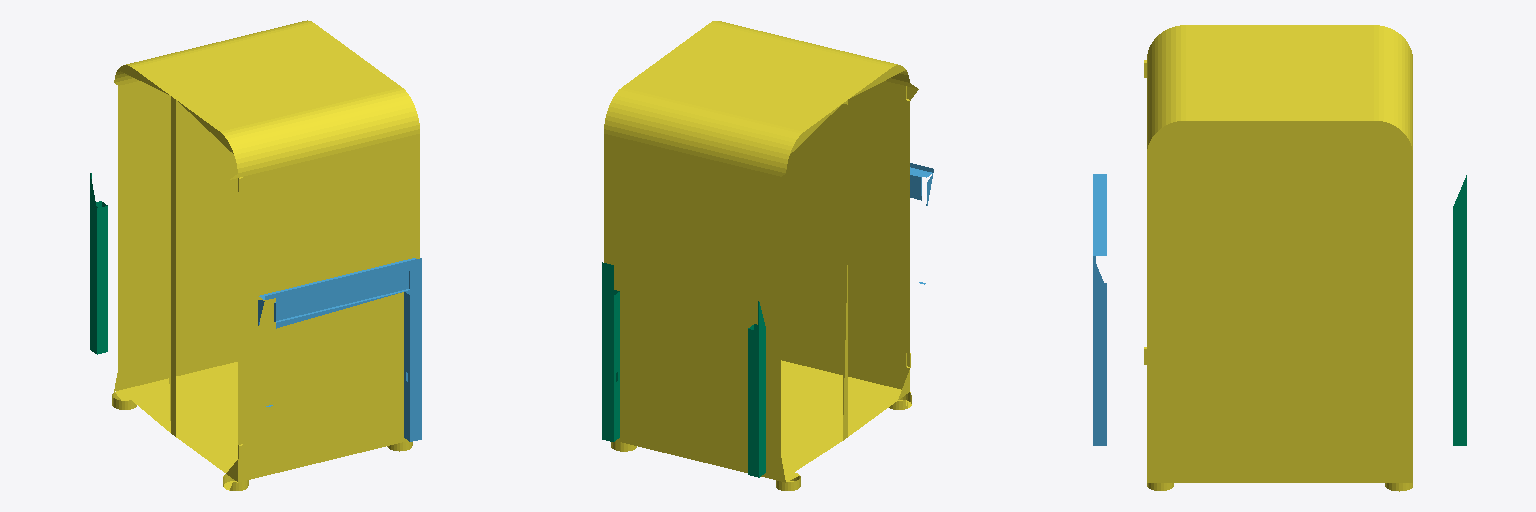
robot.urdf — partnet_8ed3447275de7695149c1768202b4e64:
<?xml version="1.0" ?>
<robot name="partnet_8ed3447275de7695149c1768202b4e64">
	<link name="base"/>
	<link name="link_0">
		<visual name="door_frame-13">
			<origin xyz="0.5038798779540579 -0.757308 -0.3910896986000594"/>
			<geometry>
				<mesh filename="textured_objs/new-8.obj"/>
			</geometry>
		</visual>
		<visual name="handle-14">
			<origin xyz="0.5038798779540579 -0.757308 -0.3910896986000594"/>
			<geometry>
				<mesh filename="textured_objs/new-4.obj"/>
			</geometry>
		</visual>
		<collision>
			<origin xyz="0.5038798779540579 -0.757308 -0.3910896986000594"/>
			<geometry>
				<mesh filename="textured_objs/new-8.obj"/>
			</geometry>
		</collision>
		<collision>
			<origin xyz="0.5038798779540579 -0.757308 -0.3910896986000594"/>
			<geometry>
				<mesh filename="textured_objs/new-4.obj"/>
			</geometry>
		</collision>
	</link>
	<joint name="joint_0" type="revolute">
		<origin xyz="-0.5038798779540579 0.757308 0.3910896986000594"/>
		<axis xyz="0 -1 0"/>
		<child link="link_0"/>
		<parent link="link_2"/>
		<limit lower="0.0" upper="3.141592653589793"/>
	</joint>
	<link name="link_1">
		<visual name="door_frame-11">
			<origin xyz="-0.4877117157723351 -0.7573079999999996 -0.38152655059947566"/>
			<geometry>
				<mesh filename="textured_objs/new-6.obj"/>
			</geometry>
		</visual>
		<visual name="handle-12">
			<origin xyz="-0.4877117157723351 -0.7573079999999996 -0.38152655059947566"/>
			<geometry>
				<mesh filename="textured_objs/new-5.obj"/>
			</geometry>
		</visual>
		<collision>
			<origin xyz="-0.4877117157723351 -0.7573079999999996 -0.38152655059947566"/>
			<geometry>
				<mesh filename="textured_objs/new-6.obj"/>
			</geometry>
		</collision>
		<collision>
			<origin xyz="-0.4877117157723351 -0.7573079999999996 -0.38152655059947566"/>
			<geometry>
				<mesh filename="textured_objs/new-5.obj"/>
			</geometry>
		</collision>
	</link>
	<joint name="joint_1" type="revolute">
		<origin xyz="0.4877117157723351 0.7573079999999996 0.38152655059947566"/>
		<axis xyz="0 1 0"/>
		<child link="link_1"/>
		<parent link="link_2"/>
		<limit lower="-0.0" upper="3.141592653589793"/>
	</joint>
	<link name="link_2">
		<visual name="frame-8">
			<origin xyz="0 0 0"/>
			<geometry>
				<mesh filename="textured_objs/new-7.obj"/>
			</geometry>
		</visual>
		<visual name="foot-4">
			<origin xyz="0 0 0"/>
			<geometry>
				<mesh filename="textured_objs/new-1.obj"/>
			</geometry>
		</visual>
		<visual name="foot-5">
			<origin xyz="0 0 0"/>
			<geometry>
				<mesh filename="textured_objs/new-2.obj"/>
			</geometry>
		</visual>
		<visual name="foot-6">
			<origin xyz="0 0 0"/>
			<geometry>
				<mesh filename="textured_objs/new-0.obj"/>
			</geometry>
		</visual>
		<visual name="foot-7">
			<origin xyz="0 0 0"/>
			<geometry>
				<mesh filename="textured_objs/new-3.obj"/>
			</geometry>
		</visual>
		<collision>
			<origin xyz="0 0 0"/>
			<geometry>
				<mesh filename="textured_objs/new-7.obj"/>
			</geometry>
		</collision>
		<collision>
			<origin xyz="0 0 0"/>
			<geometry>
				<mesh filename="textured_objs/new-1.obj"/>
			</geometry>
		</collision>
		<collision>
			<origin xyz="0 0 0"/>
			<geometry>
				<mesh filename="textured_objs/new-2.obj"/>
			</geometry>
		</collision>
		<collision>
			<origin xyz="0 0 0"/>
			<geometry>
				<mesh filename="textured_objs/new-0.obj"/>
			</geometry>
		</collision>
		<collision>
			<origin xyz="0 0 0"/>
			<geometry>
				<mesh filename="textured_objs/new-3.obj"/>
			</geometry>
		</collision>
	</link>
	<joint name="joint_2" type="fixed">
		<origin rpy="1.570796326794897 0 -1.570796326794897" xyz="0 0 0"/>
		<child link="link_2"/>
		<parent link="base"/>
	</joint>
</robot>

--- Render facts (derived) ---
3 views of the same robot in one strip: view 1: azimuth 30°, elevation 25°; view 2: azimuth 150°, elevation 25°; view 3: azimuth 270°, elevation 25° (orthographic).
Model partnet_8ed3447275de7695149c1768202b4e64 with 4 links and 3 joints (2 revolute, 1 fixed), rooted at base, posed every joint at zero.
Links seen in each view (by area): view 1: link_2, link_0, link_1; view 2: link_2, link_1, link_0; view 3: link_2, link_0, link_1.
Link boxes in pixels (bbox=[...]): link_2: bbox=[112, 20, 419, 490]; link_0: bbox=[258, 258, 421, 441]; link_1: bbox=[90, 173, 107, 354]; link_2: bbox=[604, 21, 918, 490]; link_1: bbox=[602, 262, 765, 477]; link_0: bbox=[910, 163, 933, 284]; link_2: bbox=[1144, 25, 1412, 491]; link_0: bbox=[1093, 174, 1106, 445]; link_1: bbox=[1453, 175, 1466, 445].
Size in the robot's own frame: 0.906 by 1.43 by 1.57 metres.
Meshes: 9 distinct files referenced, 9 mesh visuals loaded (9 OBJ).